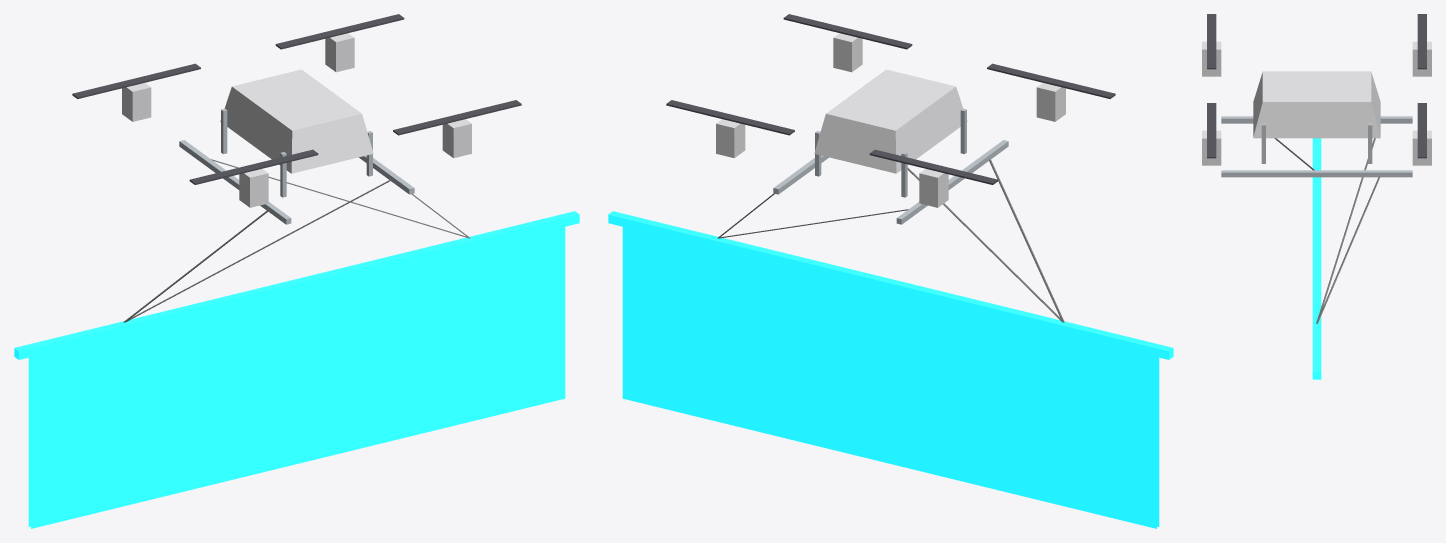
The model's file is drone_with_banner.glb.
3 views of the same model, side by side, from view 1: azimuth 30°, elevation 25°; view 2: azimuth 150°, elevation 25°; view 3: azimuth 270°, elevation 25° (orthographic). The views are drawn at different scales.
Visible parts, largest first — view 1: Drone_Physical_Banner, Drone_Body, Drone_Landing_Gear, Drone_Suspension_Cables, Rotor_FL, Rotor_FR, Rotor_RL, Rotor_RR; view 2: Drone_Physical_Banner, Drone_Body, Drone_Landing_Gear, Drone_Suspension_Cables, Rotor_RR, Rotor_RL, Rotor_FL, Rotor_FR; view 3: Drone_Body, Drone_Landing_Gear, Drone_Physical_Banner, Drone_Suspension_Cables, Rotor_FL, Rotor_FR, Rotor_RL, Rotor_RR.
Part boxes in pixels (left/top/right/bottom): Drone_Physical_Banner: left=14, top=211, right=579, bottom=528; Drone_Body: left=122, top=33, right=471, bottom=207; Drone_Landing_Gear: left=179, top=108, right=414, bottom=224; Drone_Suspension_Cables: left=123, top=159, right=470, bottom=322; Rotor_FL: left=275, top=14, right=404, bottom=49; Rotor_FR: left=72, top=63, right=200, bottom=98; Rotor_RL: left=189, top=149, right=318, bottom=184; Rotor_RR: left=393, top=100, right=521, bottom=135; Drone_Physical_Banner: left=608, top=211, right=1173, bottom=528; Drone_Body: left=716, top=33, right=1065, bottom=207; Drone_Landing_Gear: left=773, top=108, right=1008, bottom=224; Drone_Suspension_Cables: left=717, top=159, right=1064, bottom=322; Rotor_RR: left=783, top=14, right=912, bottom=49; Rotor_RL: left=987, top=63, right=1115, bottom=98; Rotor_FL: left=666, top=100, right=794, bottom=135; Rotor_FR: left=869, top=149, right=998, bottom=184; Drone_Body: left=1202, top=41, right=1431, bottom=165; Drone_Landing_Gear: left=1221, top=116, right=1412, bottom=177; Drone_Physical_Banner: left=1312, top=138, right=1321, bottom=379; Drone_Suspension_Cables: left=1274, top=122, right=1380, bottom=323; Rotor_FL: left=1417, top=103, right=1426, bottom=158; Rotor_FR: left=1417, top=14, right=1426, bottom=69; Rotor_RL: left=1207, top=14, right=1216, bottom=69; Rotor_RR: left=1207, top=103, right=1216, bottom=158.
Bounding box in the file's own units: 5.46 × 3.39 × 2.16.
